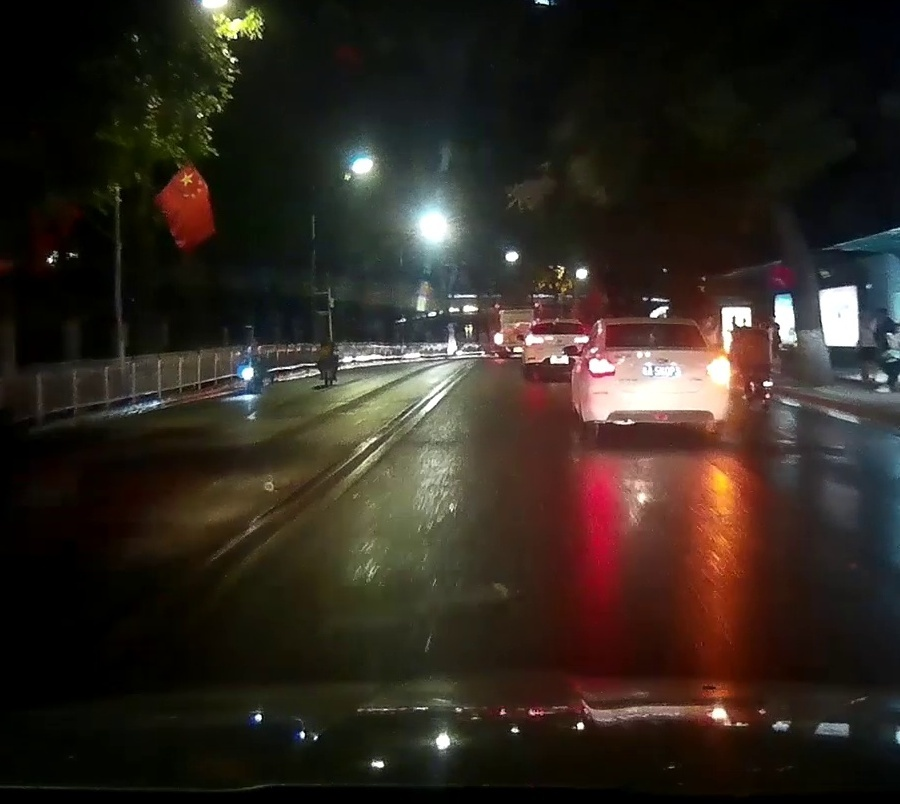L_light: (587, 358, 615, 378)
R_light: (706, 360, 729, 379)
T_light: (644, 323, 662, 328)
night-right: (582, 316, 730, 440)
